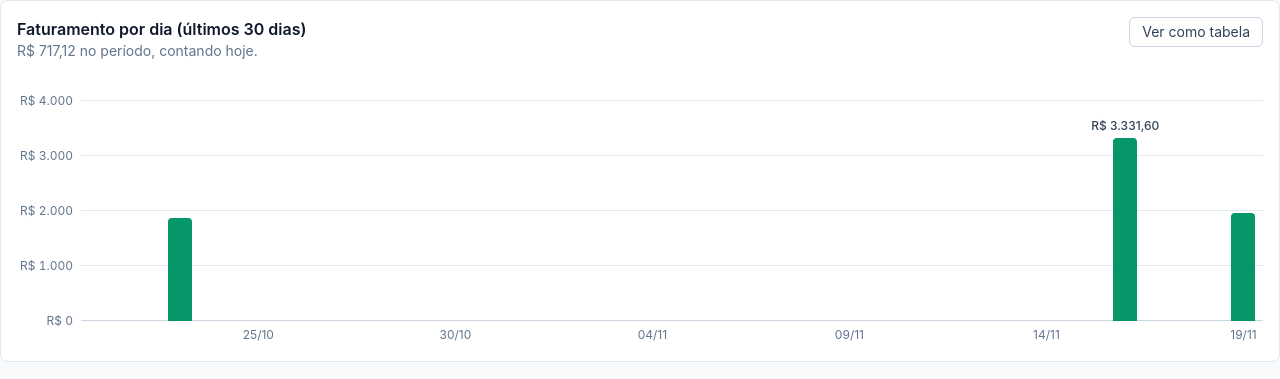
DailyRevenueChart — hover › singular para 1 pedido e 0 pedidos para dia vazio
The width and height of the screenshot is (1280, 379).
Hover over the picture with test id "revenue-day" showing "R$ 3.331,60".
mouse_move(1125, 211)  # box [1106, 101, 1145, 321]
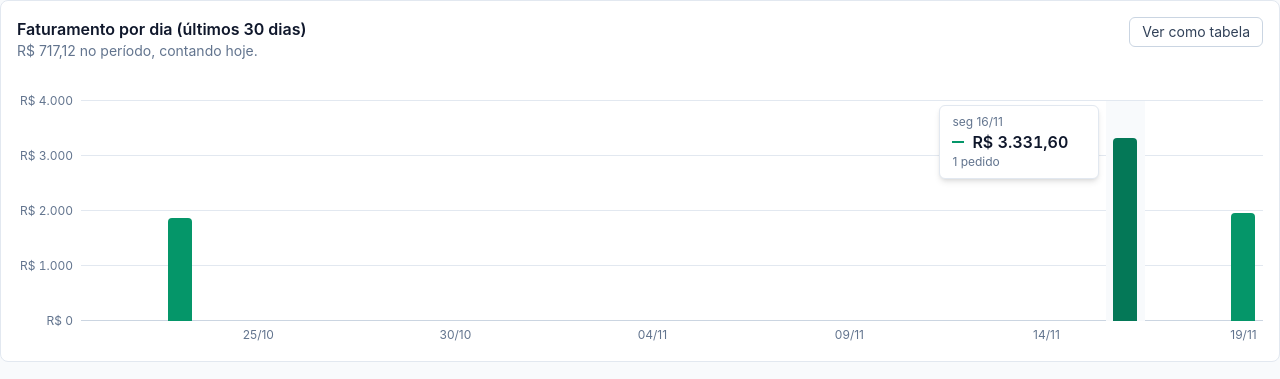
Expected: the element with test id "revenue-tooltip" does not show "1 pedidos", [939, 105, 1099, 179]
Now the element with test id "revenue-tooltip" shows "1 pedido", box [952, 154, 1000, 169]
Hover over the 6th picture with test id "revenue-day".
mouse_move(298, 211)  # box [278, 101, 317, 321]
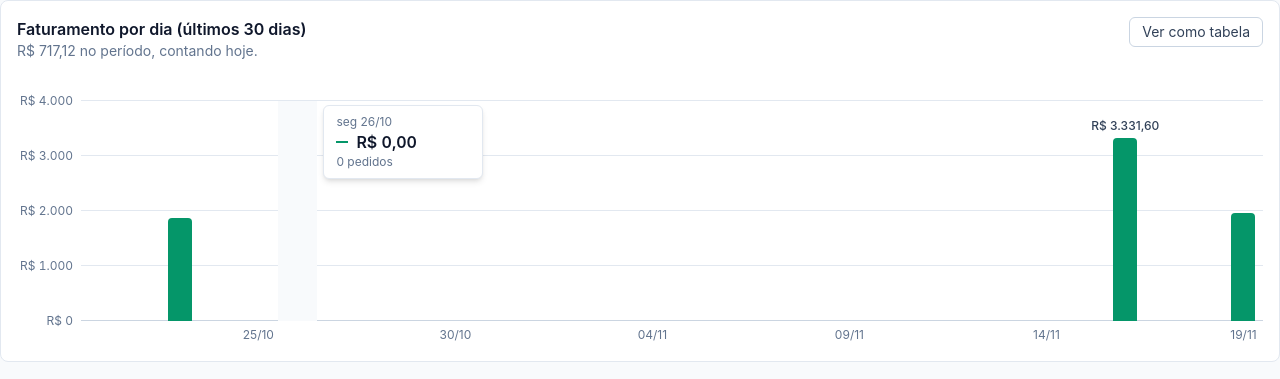
Now the element with test id "revenue-tooltip" shows "0 pedidos", box [336, 154, 393, 169]
